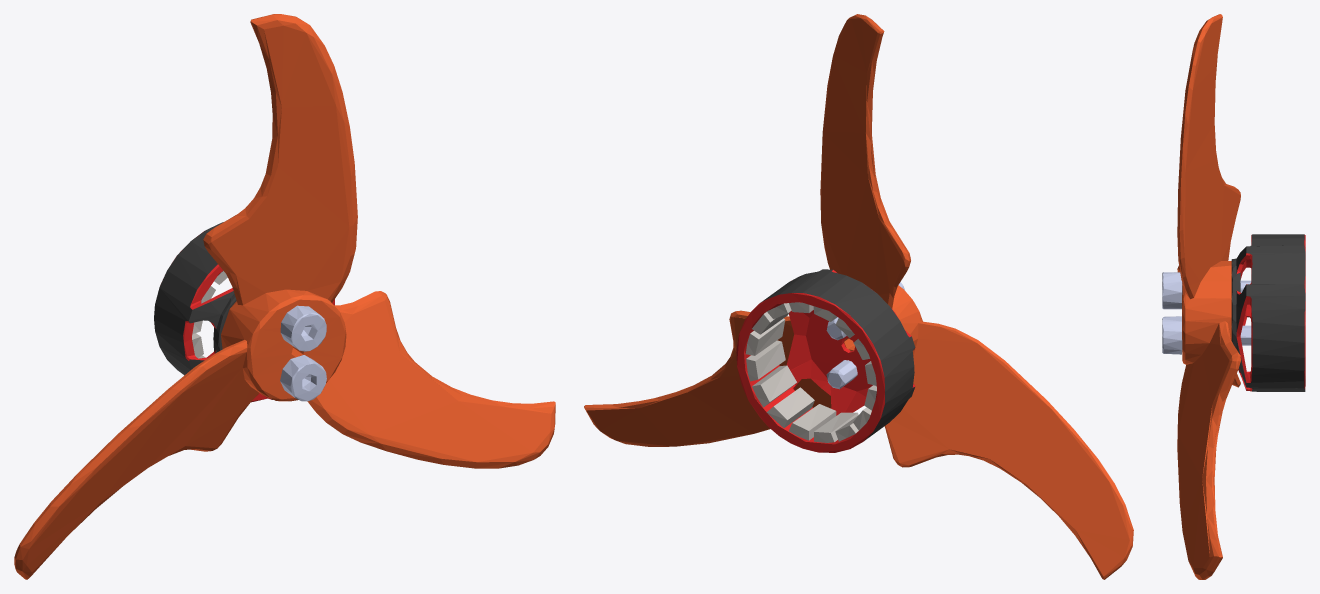
Rendered from obrik_prop_cw.obj.
3 renders of one model, left to right at view 1: azimuth 30°, elevation 25°; view 2: azimuth 150°, elevation 25°; view 3: azimuth 270°, elevation 25°, orthographic. The views are drawn at different scales.
Parts seen in each view (by area): view 1: prop_cw; view 2: prop_cw; view 3: prop_cw.
Boxes of the visible parts, box(x1,y1,x2,y2) form: prop_cw: box(14, 14, 555, 579); prop_cw: box(584, 14, 1133, 579); prop_cw: box(1162, 14, 1305, 579).
Size of the model in its own units: 0.0576 by 0.051 by 0.0145.
